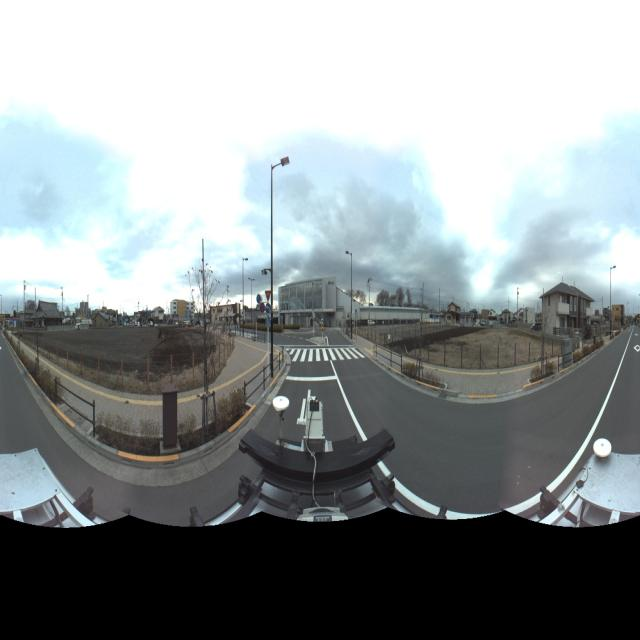b_1: (273, 274, 341, 337), (544, 284, 575, 343), (572, 282, 592, 346), (169, 295, 200, 332), (609, 298, 627, 336)
b_2: (202, 297, 243, 338)
